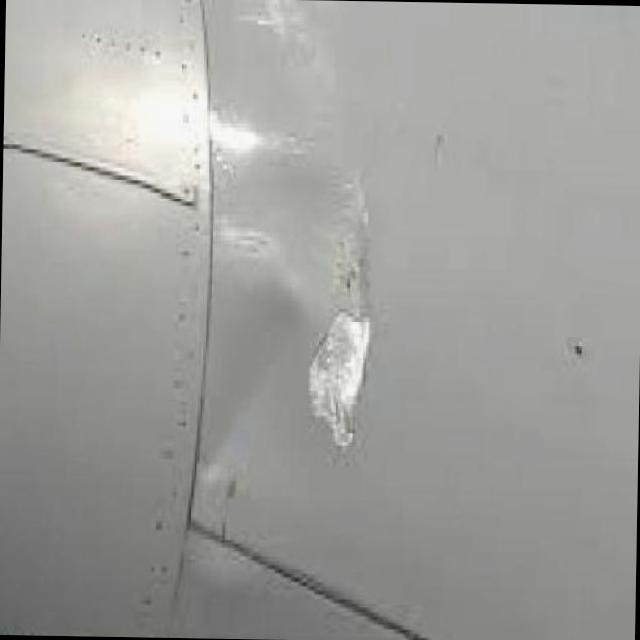dent: (304, 173, 374, 457)
